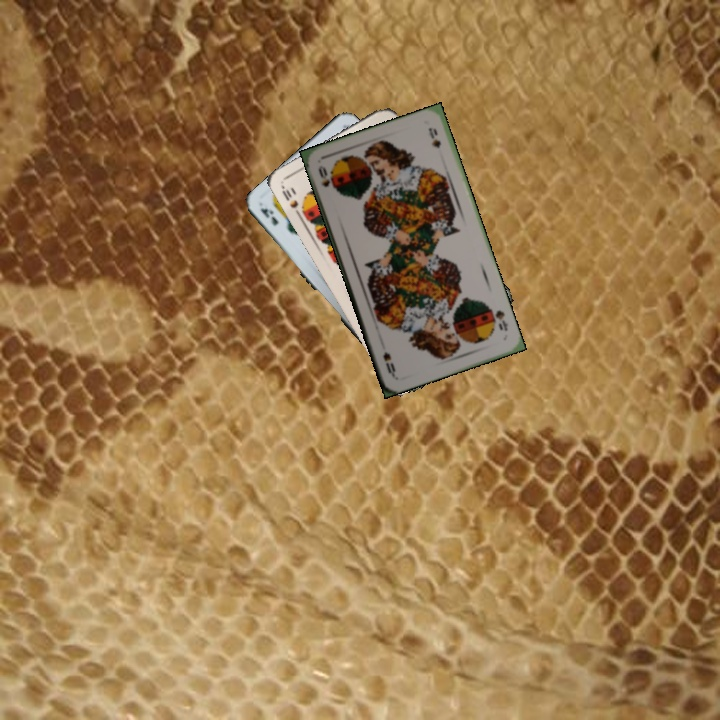EK: (256, 204, 281, 228)
S10: (277, 182, 308, 219)
SO: (486, 304, 511, 334), (314, 161, 337, 191)
